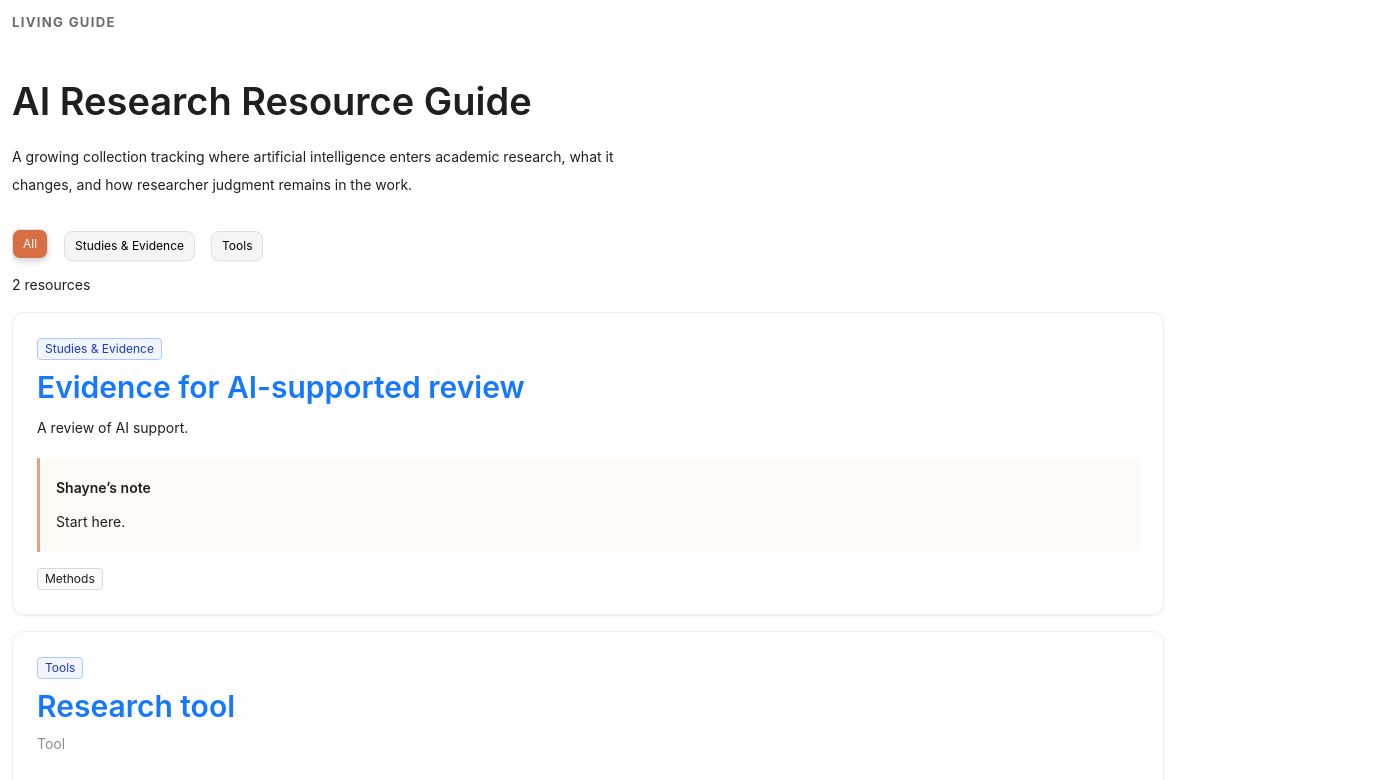
Test: Resource Guide › renders public annotations and filters by a Notion-provided category
The width and height of the screenshot is (1378, 780).
Expected: the heading "Evidence for AI-supported review" is shown, left=37, top=369, right=525, bottom=405
Expected: the text "Shayne’s note" is shown, left=56, top=479, right=151, bottom=496
Click the radio button "Tools" at (237, 246), box left=211, top=231, right=264, bottom=261
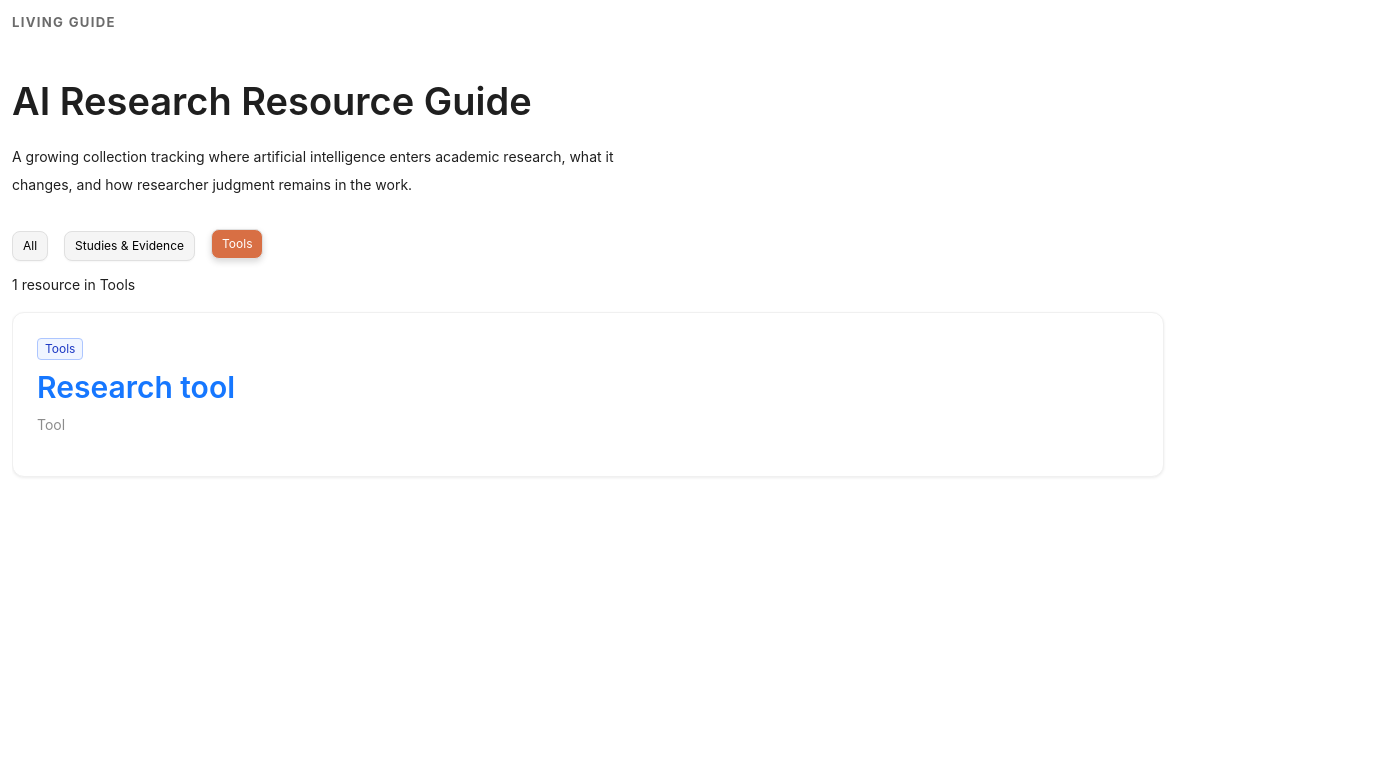
Expected: the heading "Research tool" is shown, left=37, top=369, right=235, bottom=405
Result: the link "Evidence for AI-supported review" is gone
Press Enter in the radio button labelled "All", box left=12, top=231, right=48, bottom=261
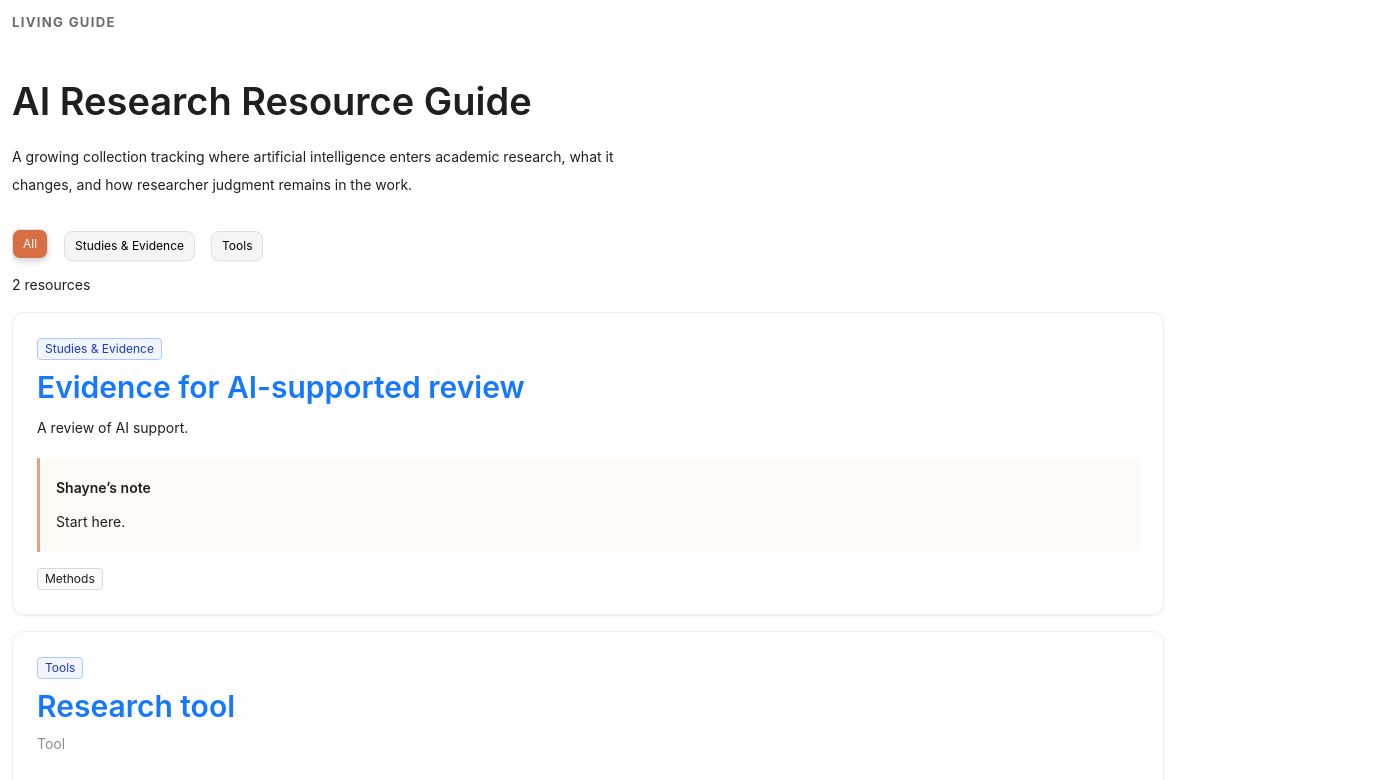
Result: the heading "Evidence for AI-supported review" is shown at left=37, top=369, right=525, bottom=405
